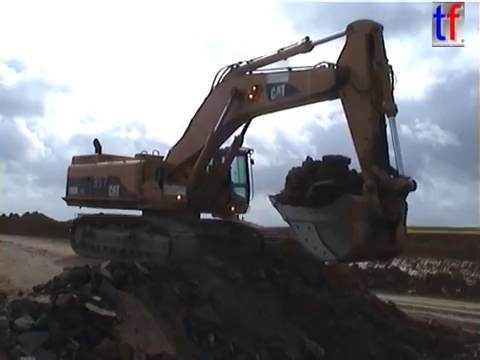excavator: (58, 16, 420, 270)
